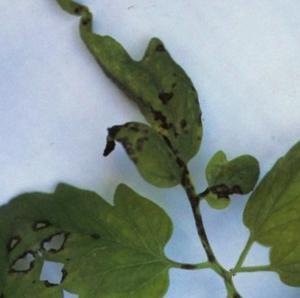Tomato leaf bacterial spot: (36, 0, 232, 212), (5, 127, 205, 298)
